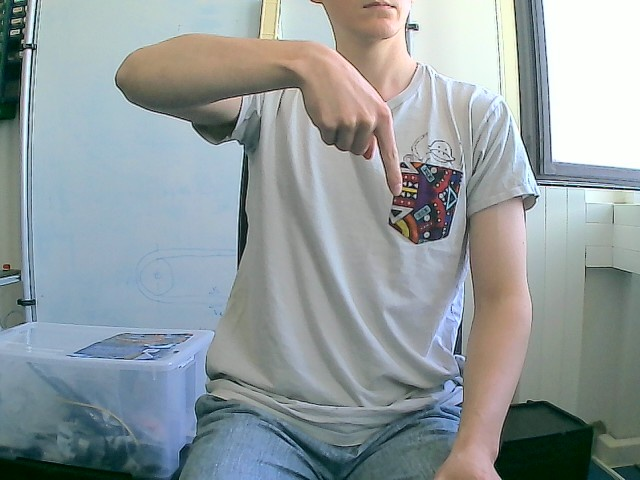down: (298, 46, 405, 198)
